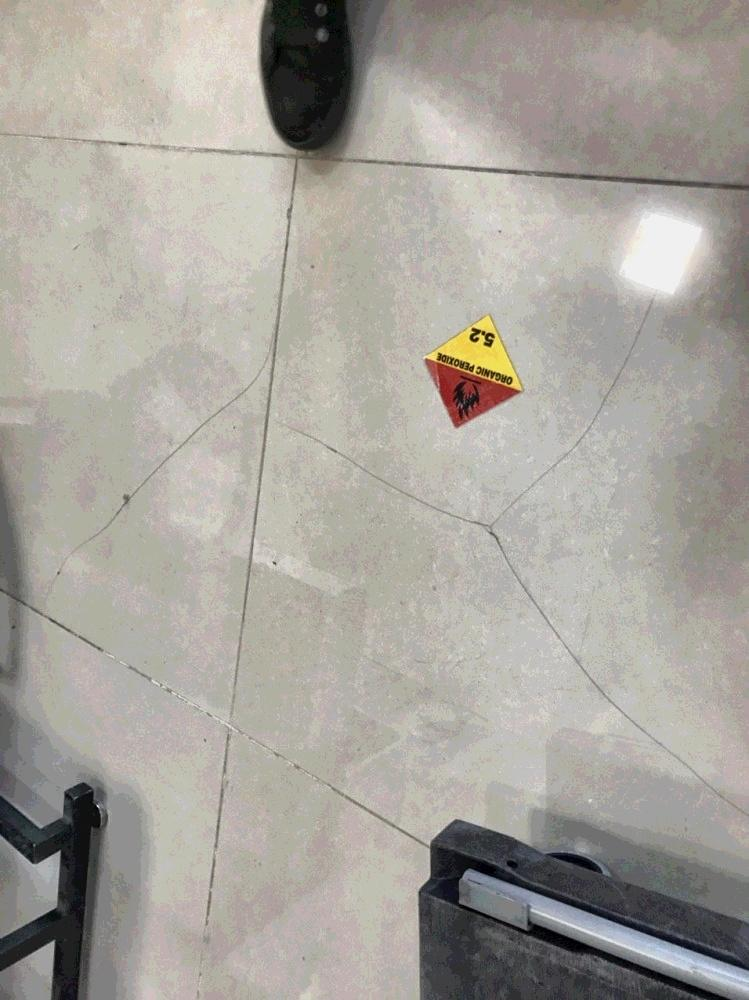organic-peroxide: (422, 317, 526, 430)
